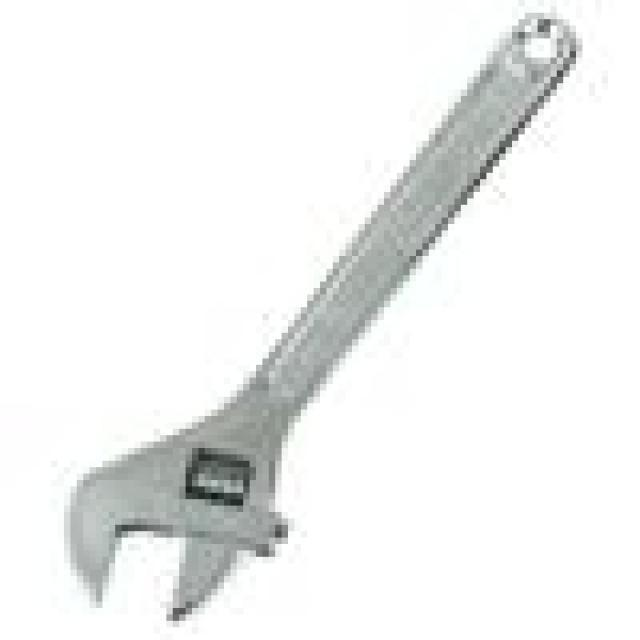wrench: (59, 4, 582, 624)
